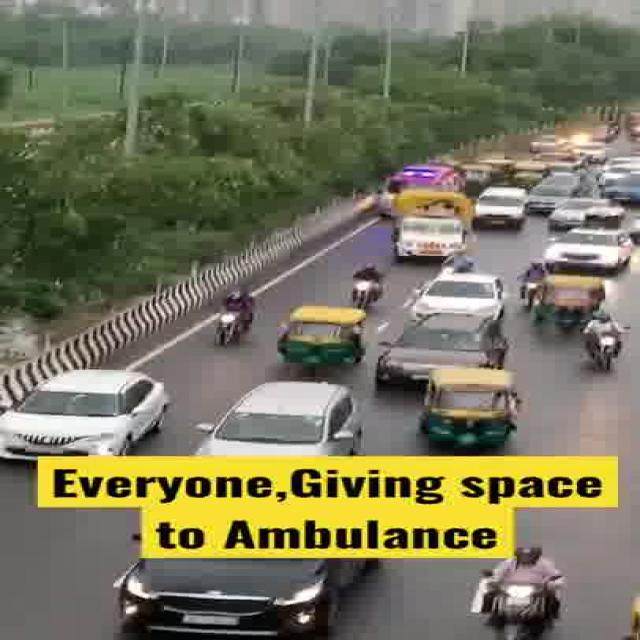ambulance: (378, 163, 460, 191)
